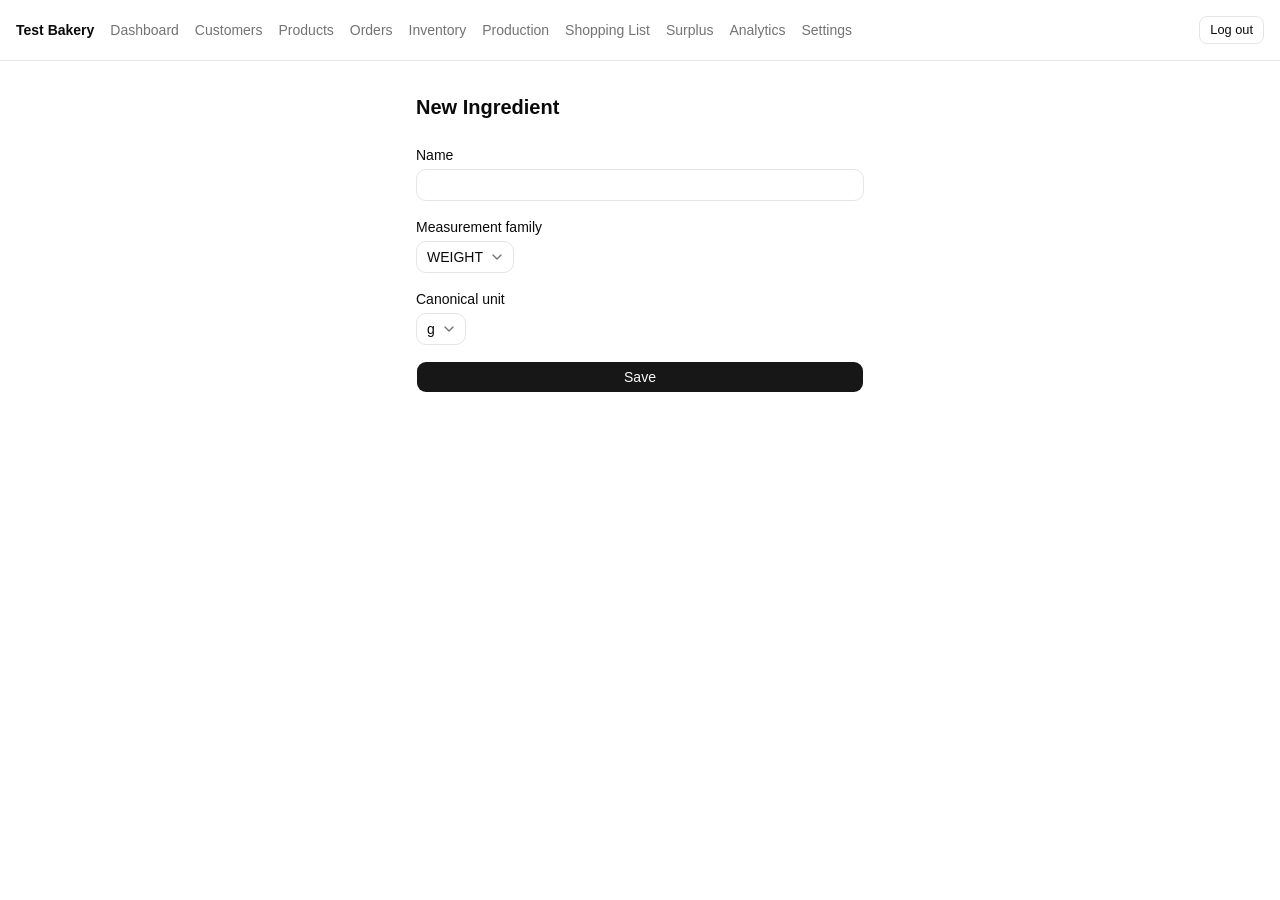
Ingredient create form › creates an Ingredient with the chosen measurement family/canonical unit and redirects to its detail page
Check: the heading "New Ingredient" is shown, box [416, 96, 559, 118]
In the field labelled "Name": (640, 185) [416, 169, 864, 201], type "Flour"
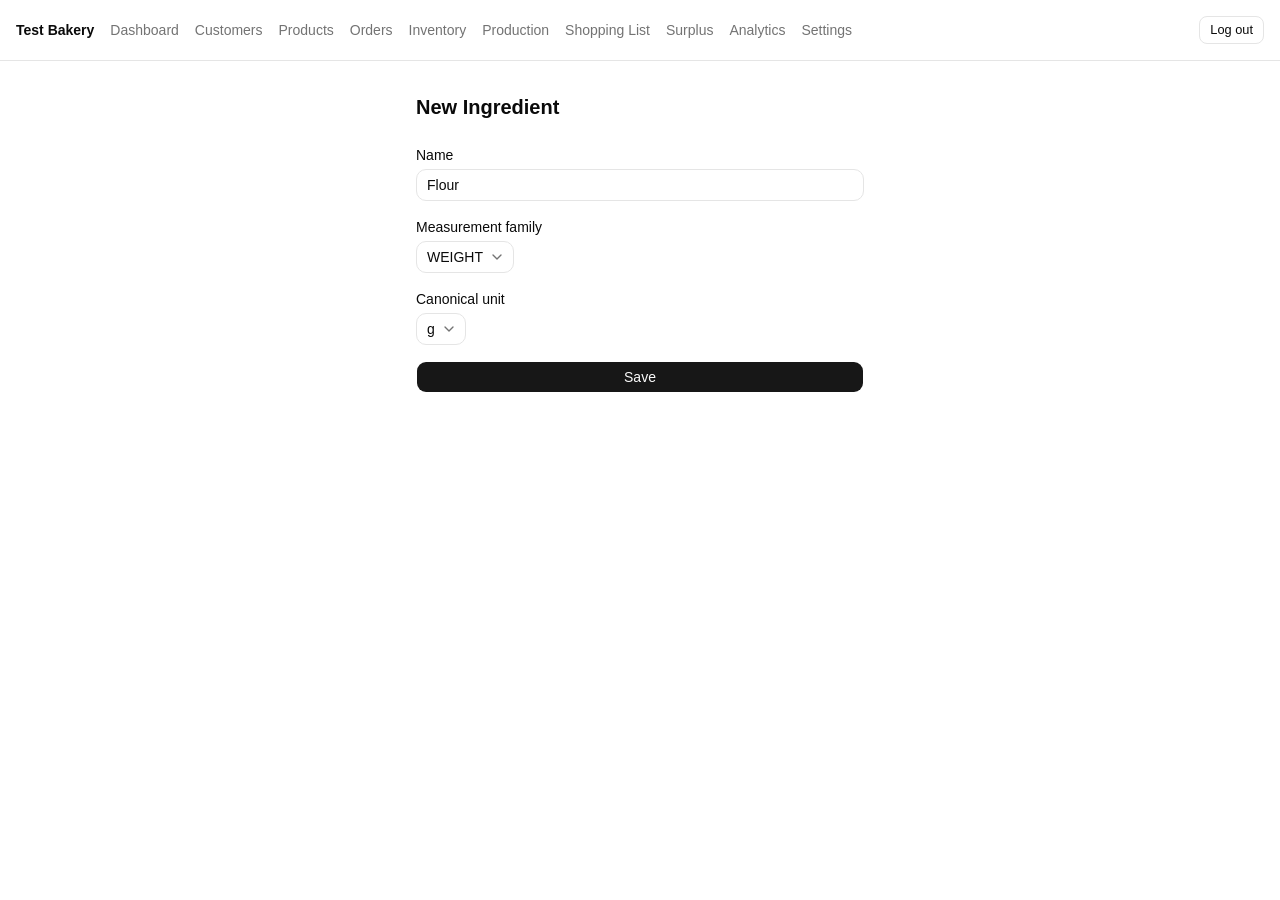
# Family and canonical unit default to WEIGHT / g — left at their defaults.
Click the button "Save": click(640, 377) [416, 361, 864, 393]
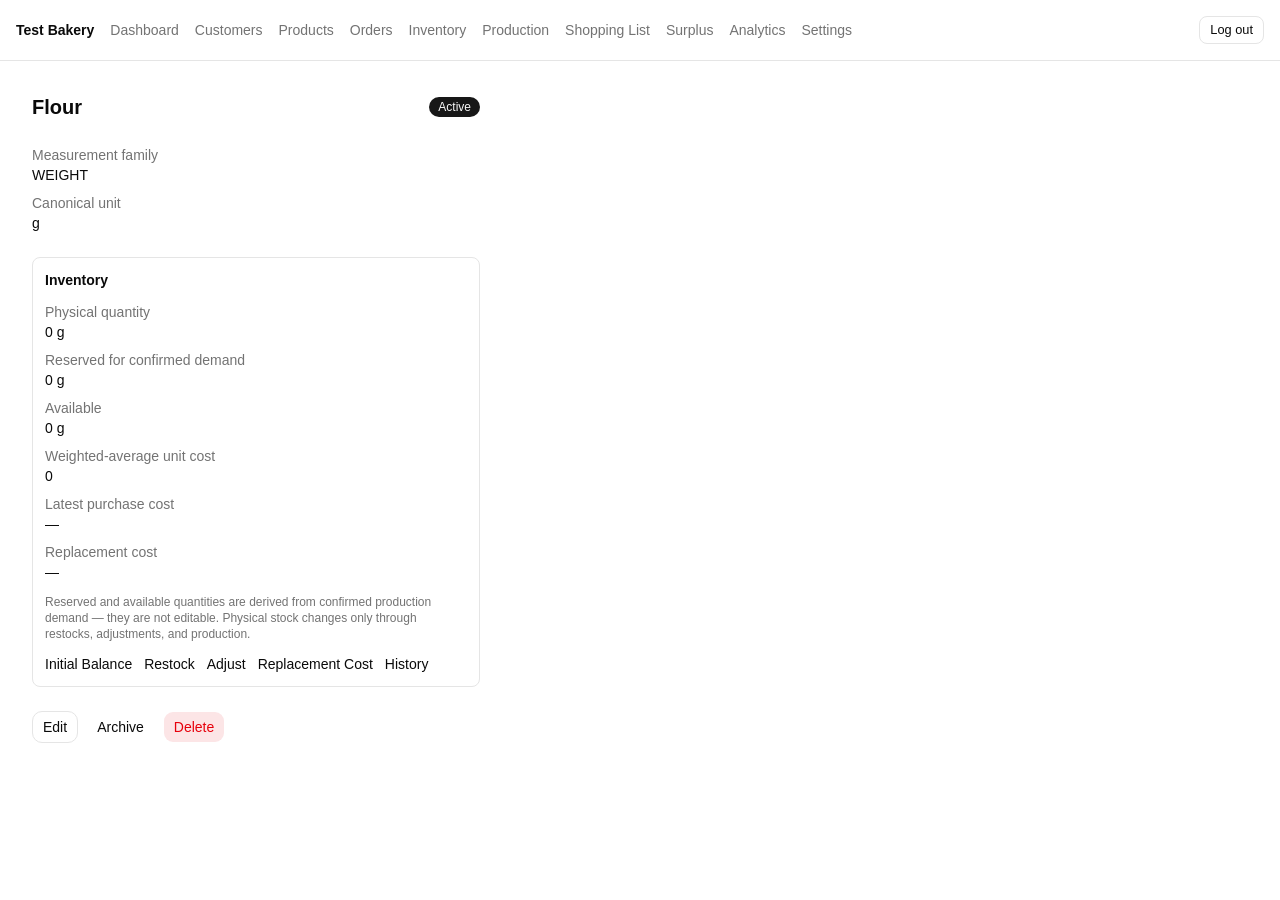
Check: the heading "Flour" is shown, box [32, 93, 82, 121]
